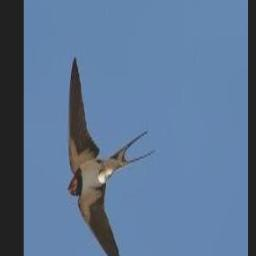Swallow: (66, 57, 154, 256)
